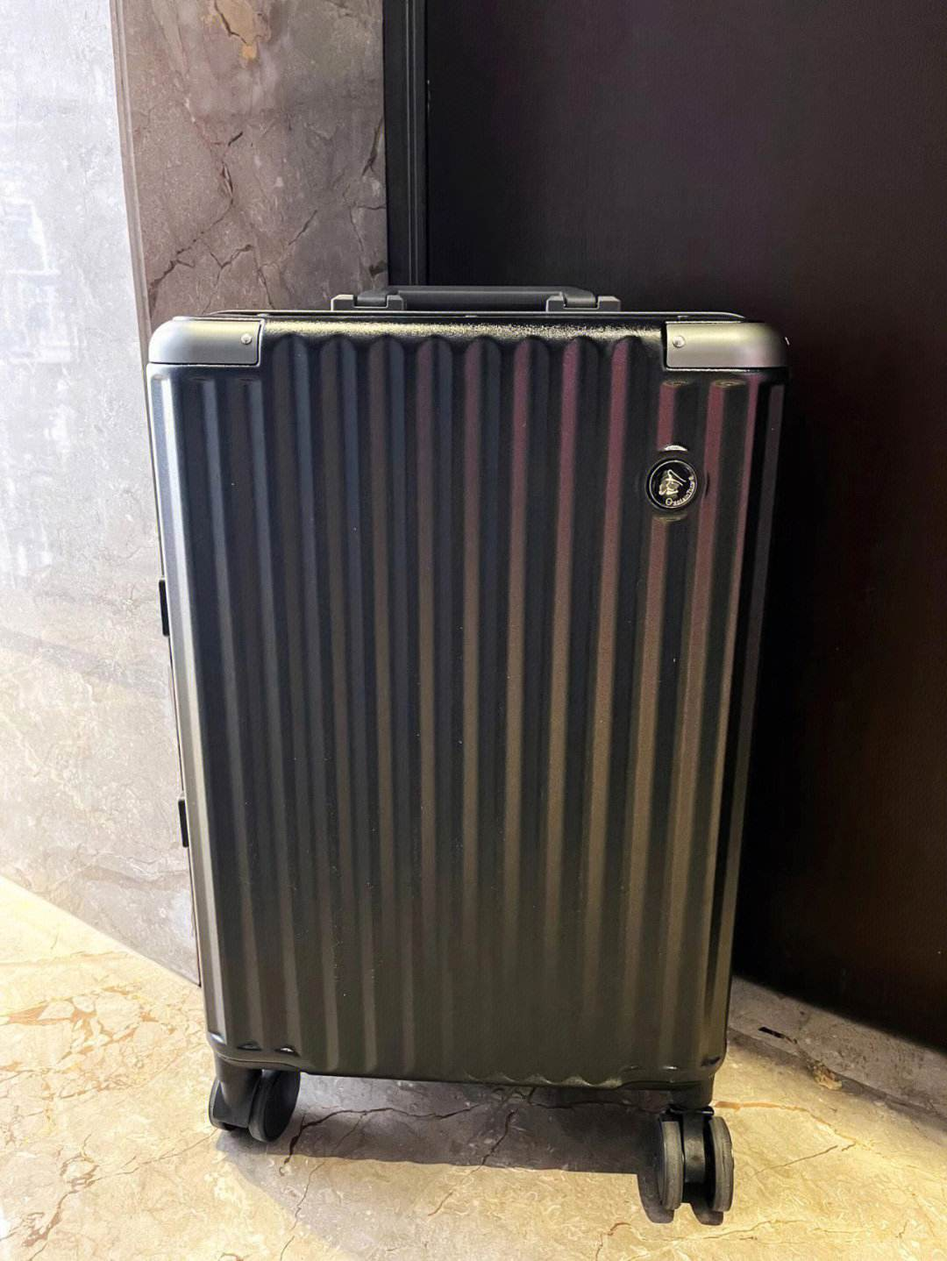box: (142, 308, 790, 1086)
handle: (329, 282, 623, 315)
wheel: (654, 1108, 735, 1214), (207, 1069, 303, 1143)
